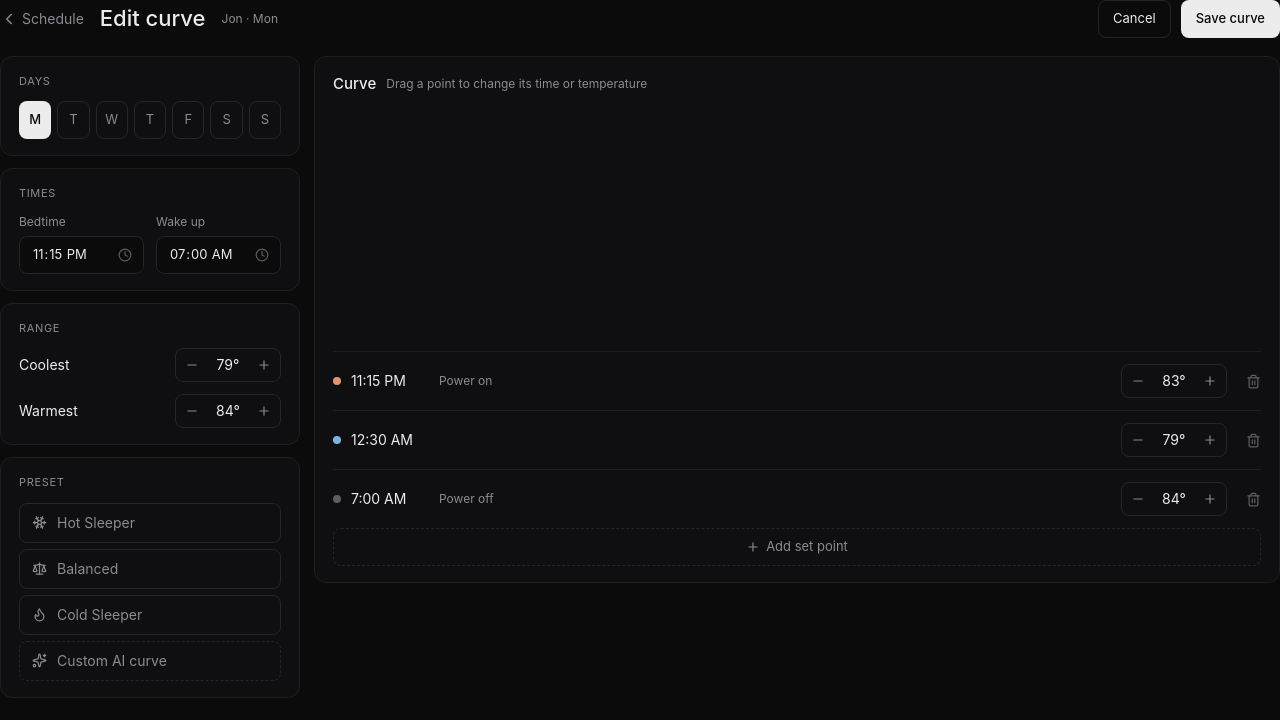
Scenario: CurveEditor › adds a set point through the set-point dialog
Click the button "Add set point" at [797, 547], box [333,528,1261,566]
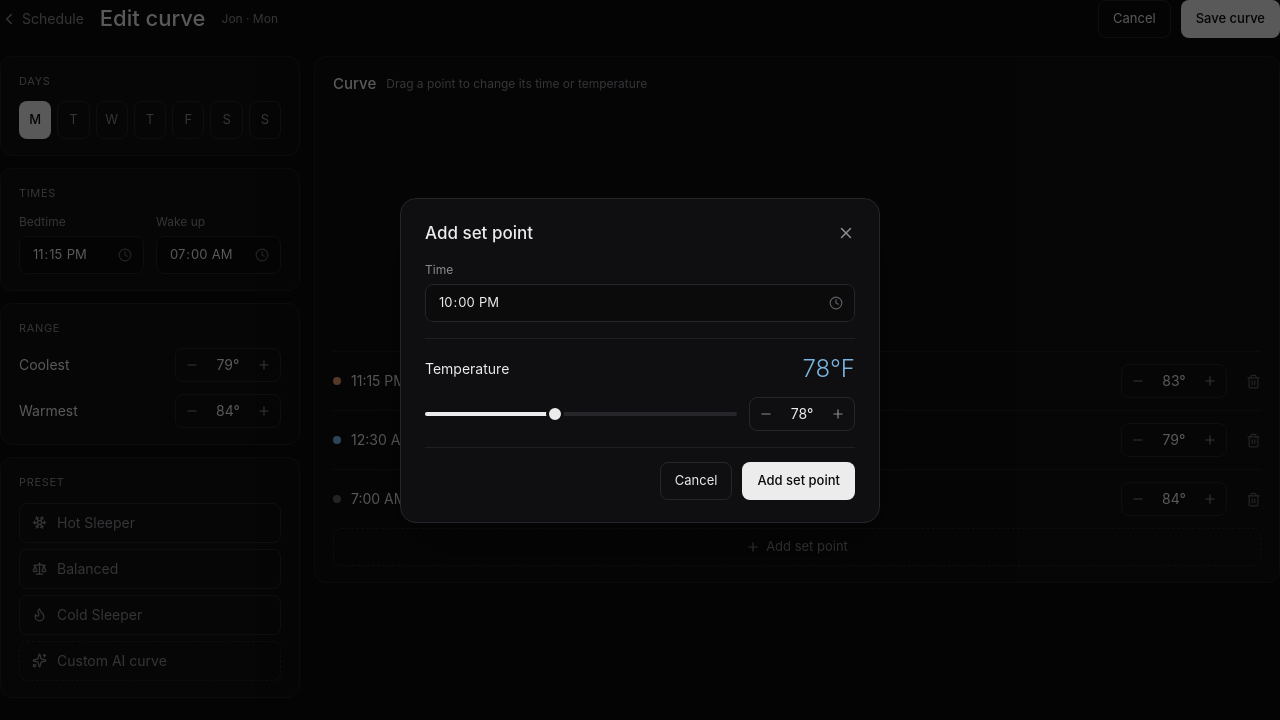
Replace the text in the time field labelled "Time" with "03:00" at [640, 303], box [425,284,855,322]
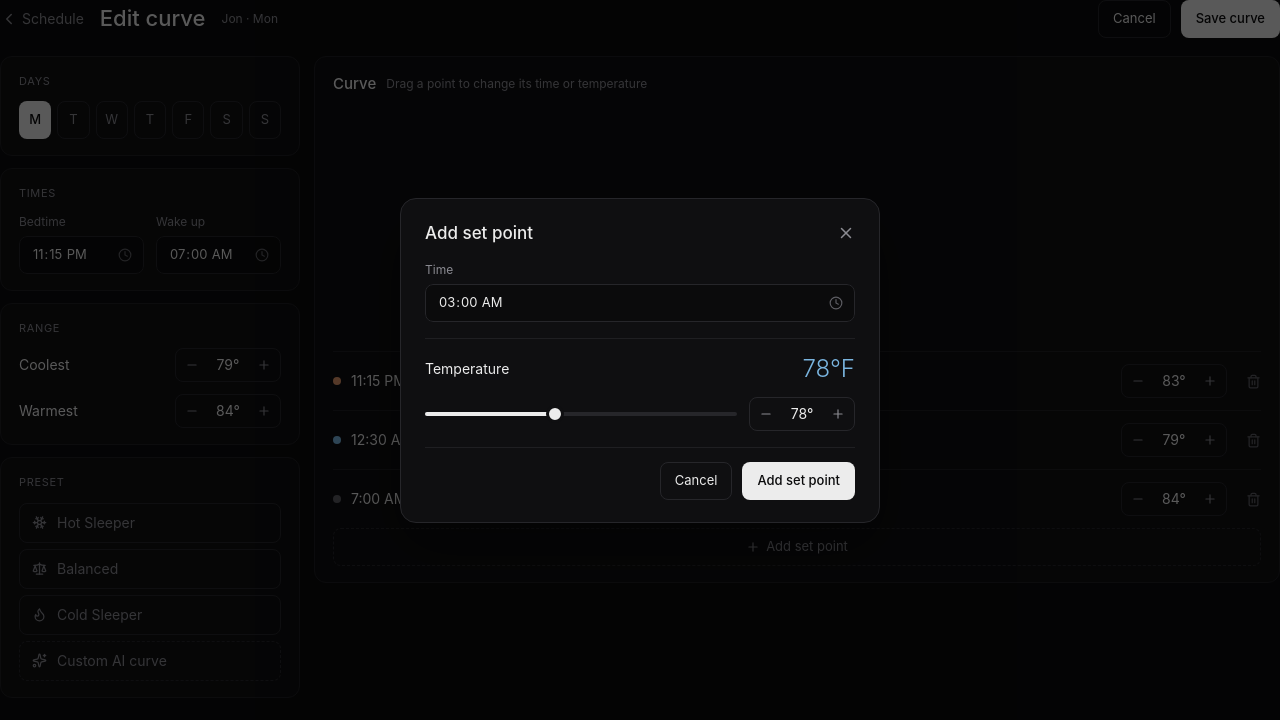
Click the button "Add set point" at [799, 481], box [742,462,855,500]
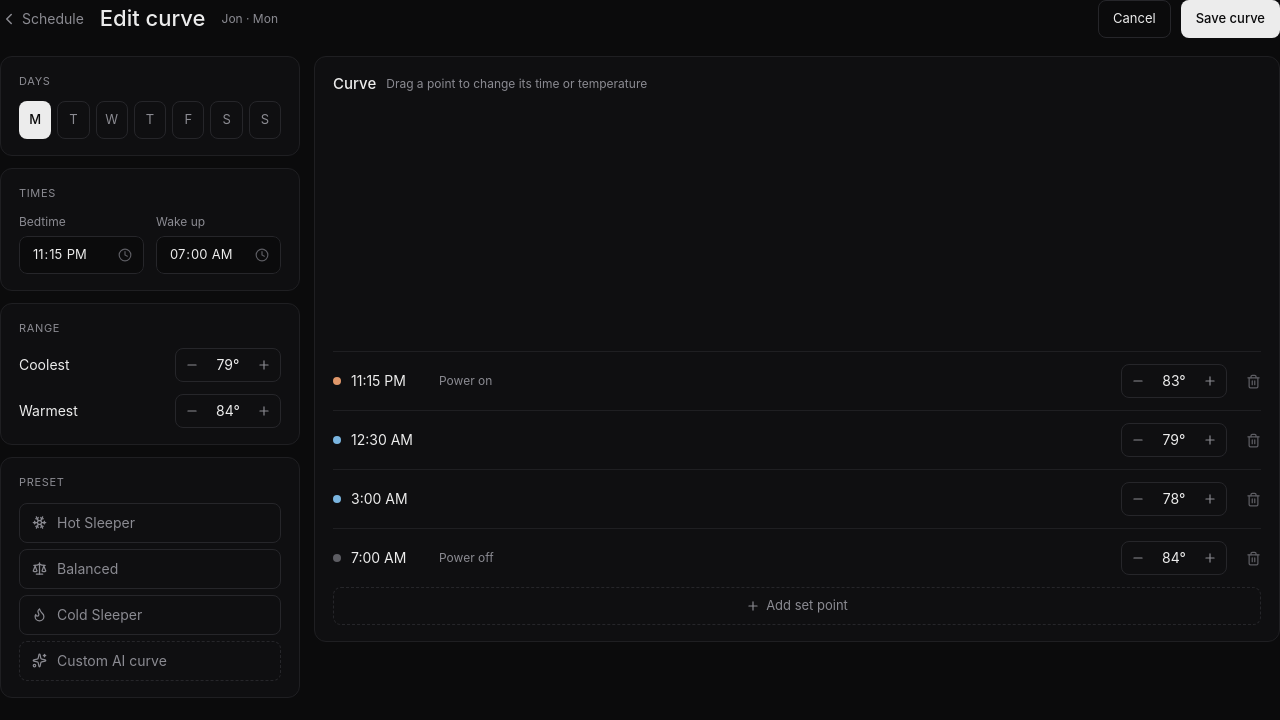
Expected: the dialog is gone
